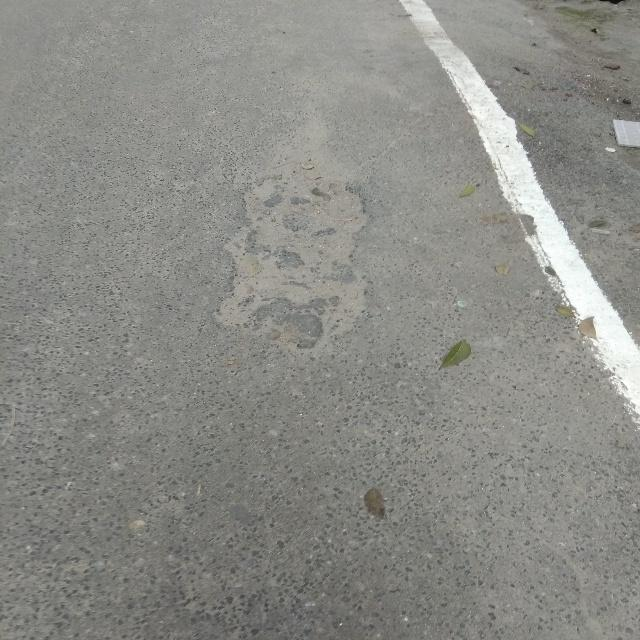Surface Erosion: (0, 48, 420, 430)
